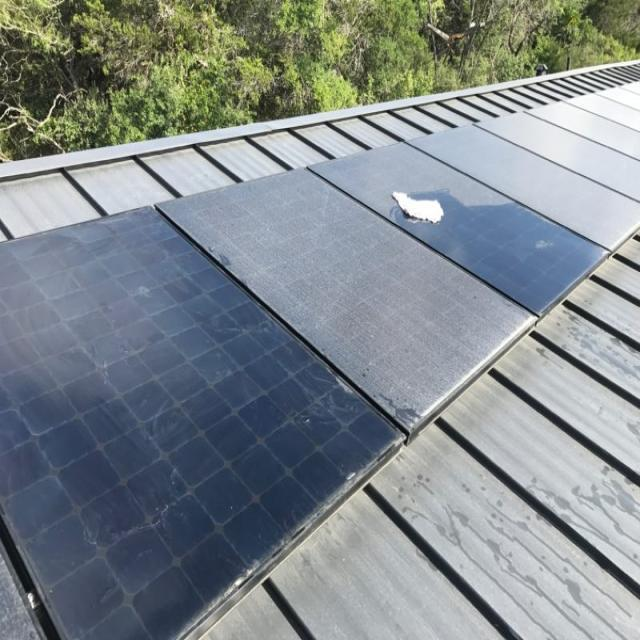Surface Contaminant: (153, 165, 538, 433), (405, 79, 639, 250), (305, 139, 518, 223)
